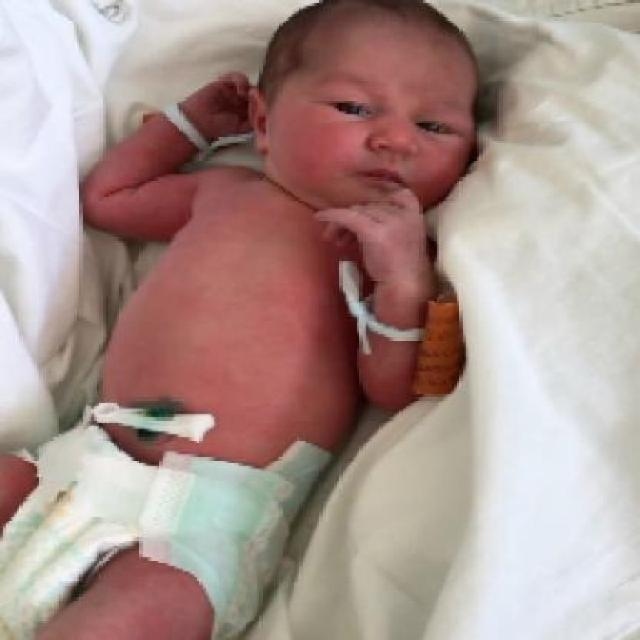child: (3, 0, 483, 637)
